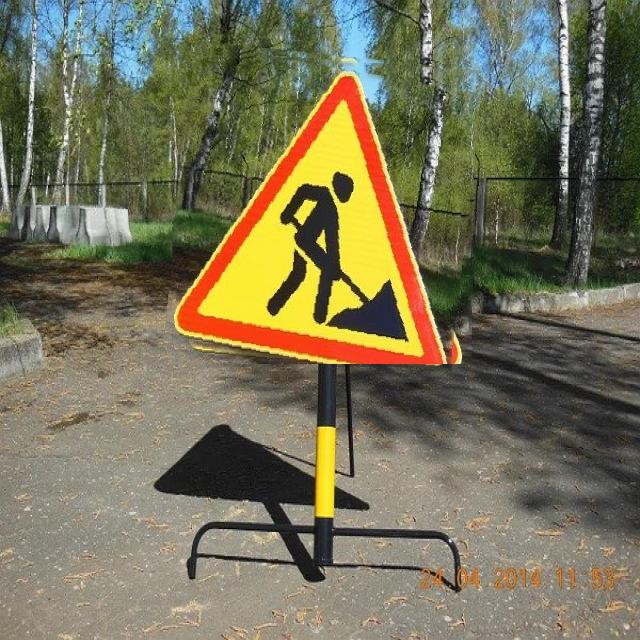roadwork: (172, 48, 476, 364)
